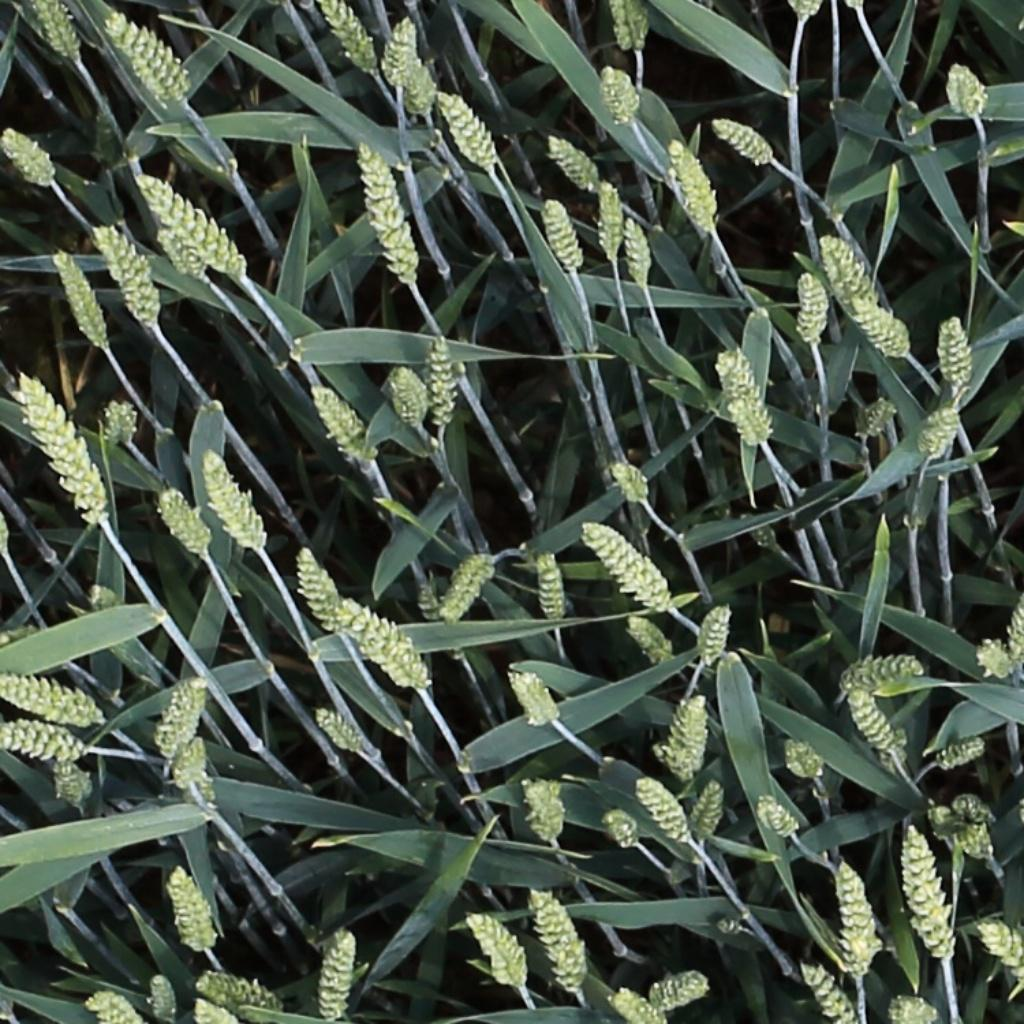0-0: (15, 372, 124, 540), (135, 169, 244, 275), (100, 7, 200, 111), (898, 818, 964, 972), (356, 133, 421, 286), (336, 597, 433, 698), (582, 520, 675, 614), (91, 219, 162, 322), (200, 449, 266, 555), (49, 243, 111, 352), (0, 675, 115, 732), (531, 884, 587, 998), (839, 860, 886, 989), (667, 132, 722, 236), (150, 672, 211, 765), (436, 86, 501, 172), (309, 383, 376, 466), (709, 347, 766, 442), (659, 686, 717, 779), (820, 229, 884, 312), (318, 0, 383, 80), (466, 912, 532, 988), (294, 543, 345, 641), (634, 775, 697, 853), (923, 802, 1000, 865), (439, 547, 498, 628), (0, 717, 94, 767), (797, 961, 871, 1024), (847, 685, 906, 763), (155, 484, 214, 561), (0, 122, 63, 191), (166, 864, 212, 955), (932, 307, 979, 395), (426, 329, 463, 438), (854, 294, 917, 358), (152, 223, 208, 293), (542, 191, 587, 275), (546, 128, 604, 193), (933, 58, 993, 120), (506, 666, 561, 733), (27, 0, 88, 60), (162, 731, 214, 801), (712, 114, 777, 169), (521, 772, 568, 848), (382, 12, 424, 92), (322, 927, 357, 1022), (599, 979, 671, 1024), (789, 263, 827, 348), (197, 973, 283, 1010), (649, 960, 712, 1010), (978, 918, 1024, 984), (697, 598, 737, 673), (390, 360, 432, 431), (689, 776, 729, 850), (600, 58, 641, 129), (625, 613, 678, 666), (729, 392, 773, 455), (536, 544, 567, 632), (920, 402, 963, 464), (53, 753, 96, 815), (622, 211, 655, 289), (598, 173, 626, 264), (756, 791, 802, 846), (314, 707, 364, 756), (608, 456, 653, 510), (79, 986, 141, 1024), (953, 789, 1002, 834), (858, 393, 899, 443), (968, 638, 1011, 683), (889, 990, 944, 1024), (105, 394, 140, 446), (935, 738, 988, 771), (188, 991, 241, 1024), (146, 968, 177, 1024), (603, 811, 643, 854), (785, 740, 826, 780), (618, 0, 648, 54), (610, 0, 638, 55), (1005, 587, 1024, 666), (786, 0, 824, 25), (845, 0, 869, 11)
